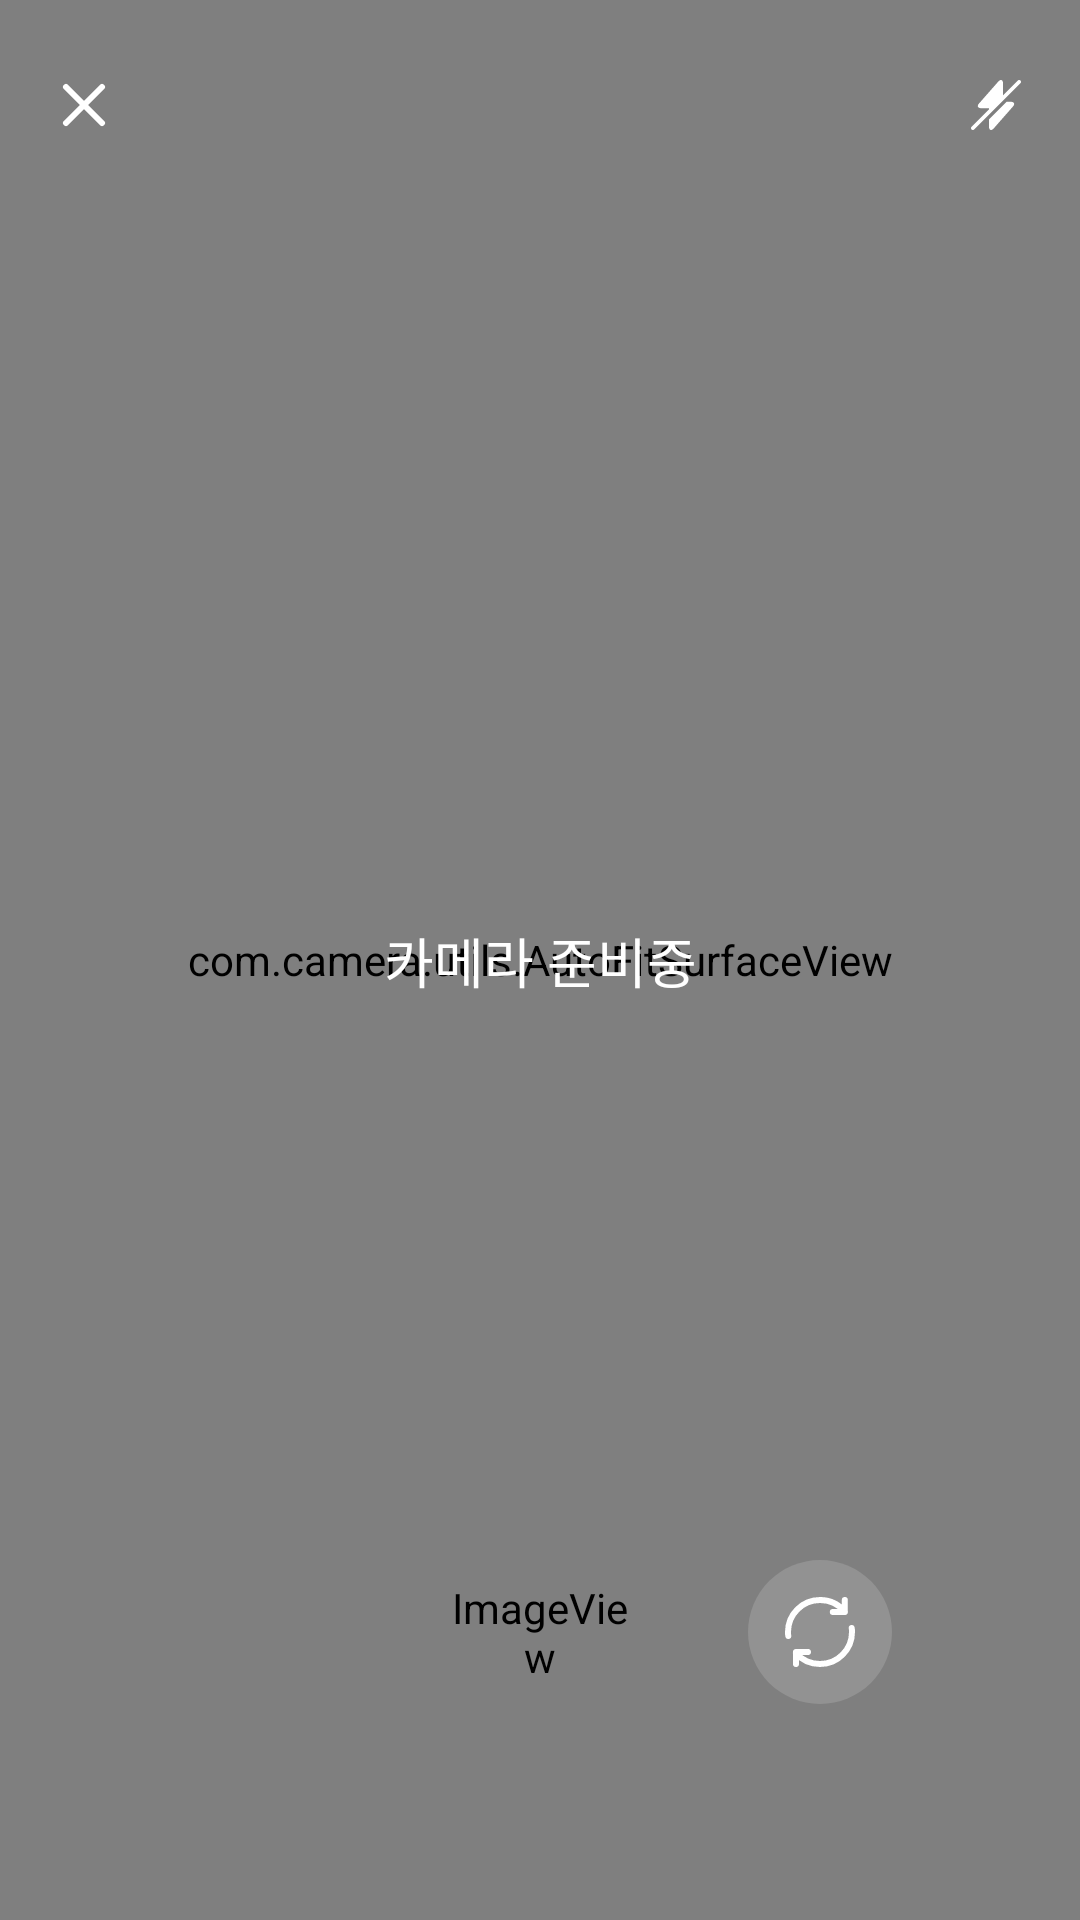

Locate icon controls on the screen. Image size 1080x1920, boxes as box(x1, y1, x2, y2).
close: box(63, 84, 105, 126)
flash off: box(971, 80, 1021, 130)
layer rotate: box(748, 1560, 892, 1704)
